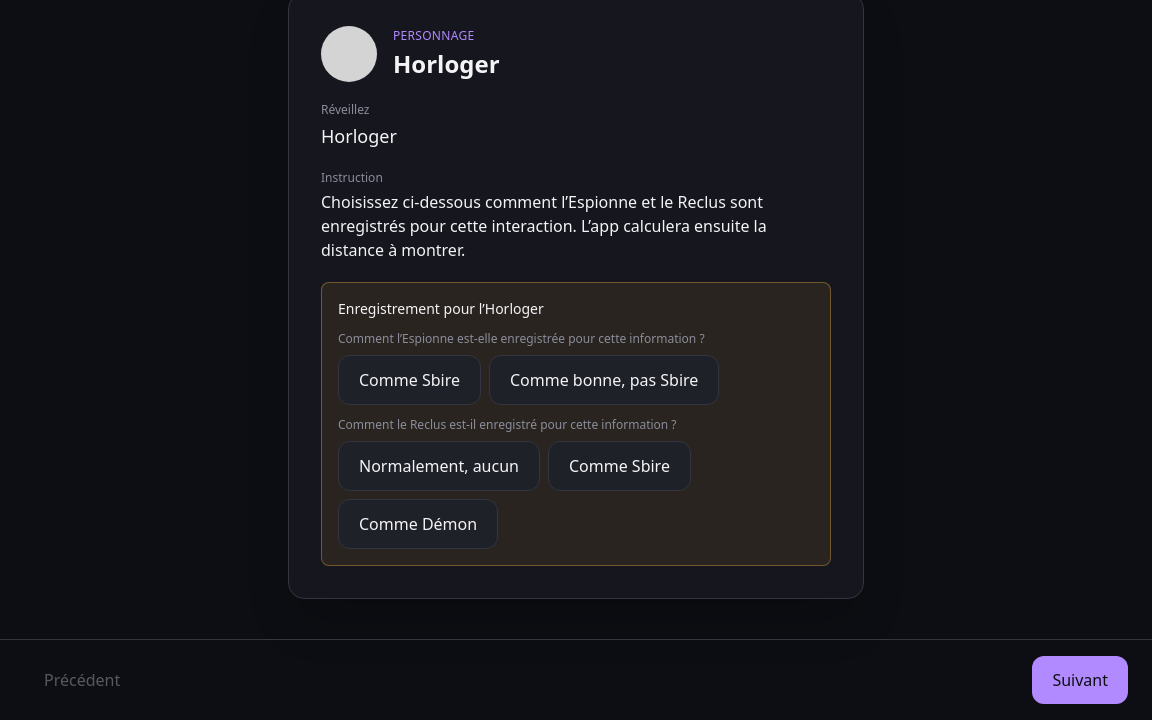
Scenario: NightAssistantScreen — Over the River : Horloger › demande les enregistrements présents, calcule la distance et ouvre l’affichage joueur
(page scrolled)
Expected: the text "Comment l’Espionne est-elle enregistrée pour cette information ?" is shown, [338, 330, 705, 347]
Expected: the text "Comment le Reclus est-il enregistré pour cette information ?" is shown, [338, 416, 677, 433]
Click the button "Comme bonne, pas Sbire": (604, 380) [489, 355, 719, 405]
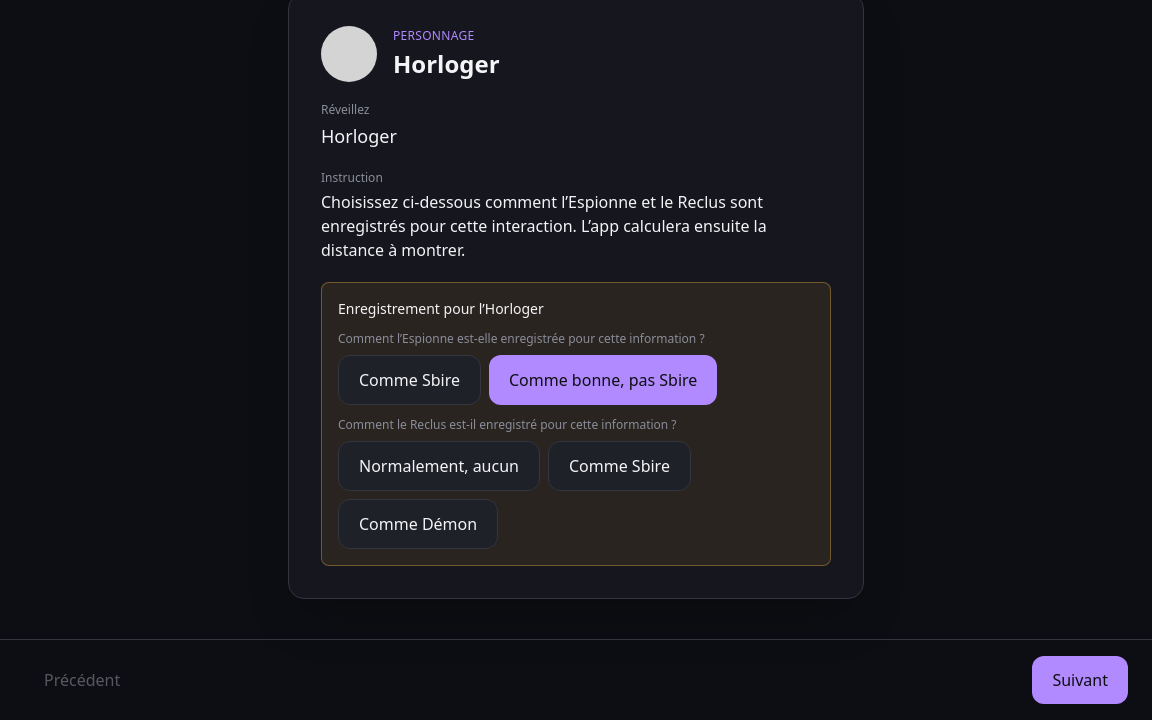
Click the 2nd button "Comme Sbire": (620, 466) [548, 441, 691, 491]
(page scrolled)
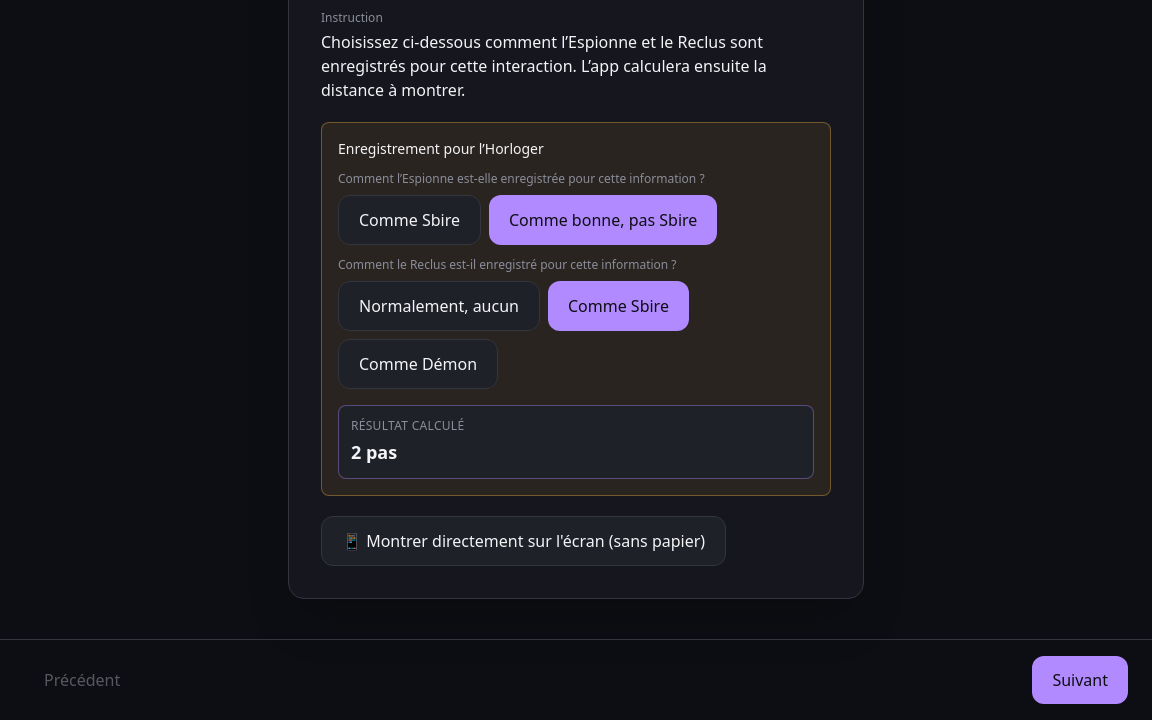
Expected: the text "2 pas" is shown, [351, 440, 397, 464]
Click the button "📱 Montrer directement sur l'écran (sans papier)": (524, 541) [321, 516, 726, 566]
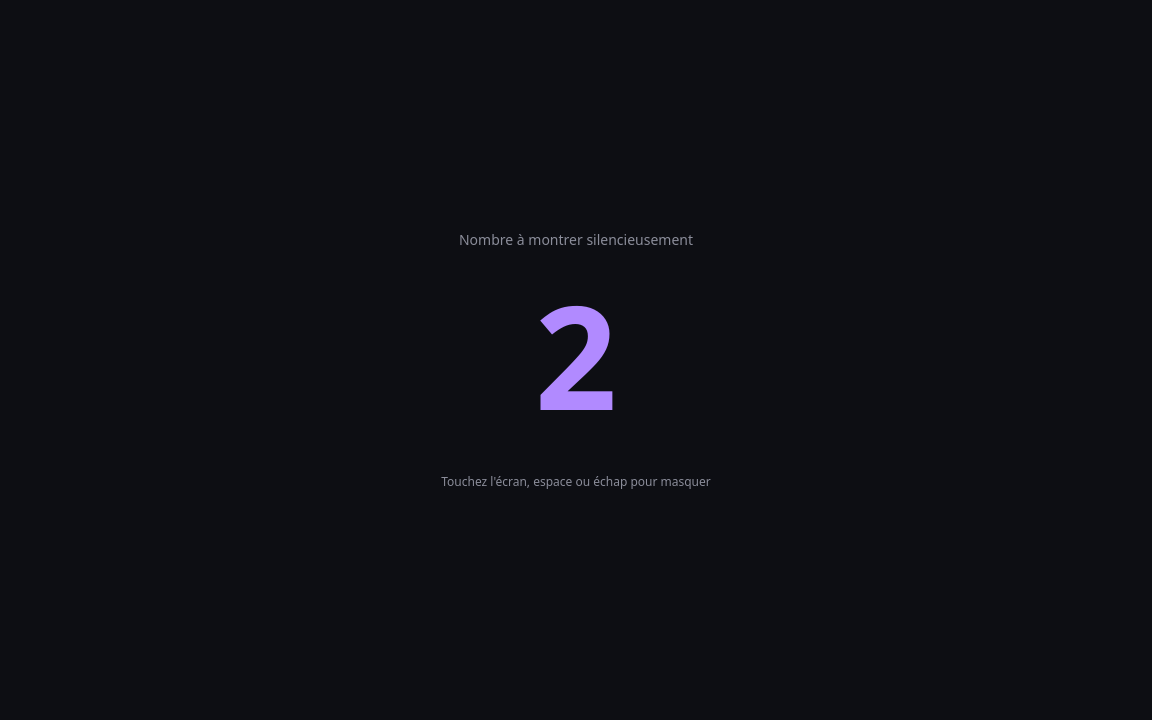
Expected: the text "Nombre à montrer silencieusement" is shown, [459, 230, 693, 250]
Expected: the text "2" is shown, [535, 282, 617, 426]
